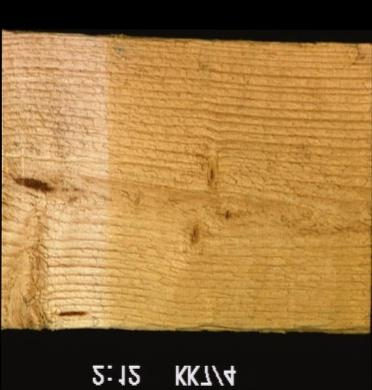sound_knot: (196, 151, 222, 195), (181, 216, 206, 252)
